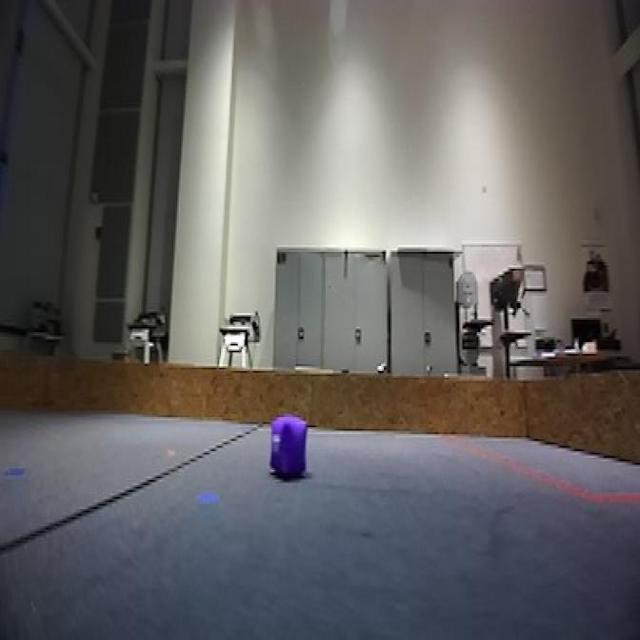frc_cube: (268, 416, 308, 484)
